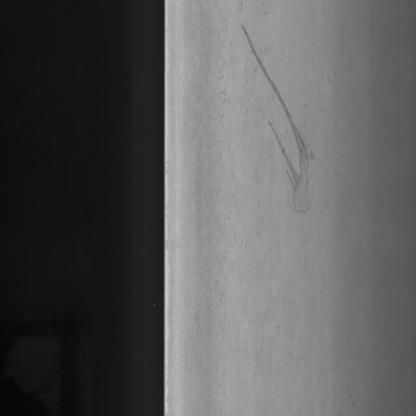water_spot: (236, 19, 329, 225)
